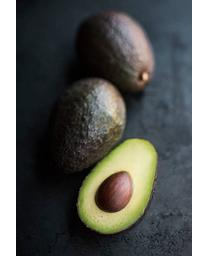avocado: (74, 138, 160, 236), (47, 76, 128, 177), (75, 11, 154, 99)
